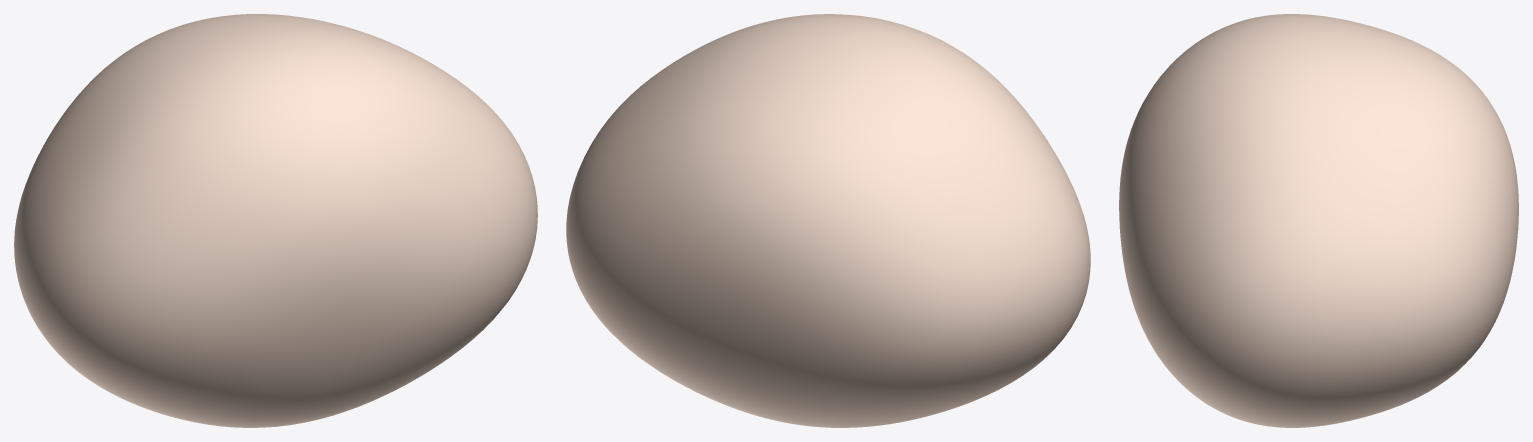
File: animal_cell.glb
3 renders of one model, left to right at view 1: azimuth 30°, elevation 25°; view 2: azimuth 150°, elevation 25°; view 3: azimuth 270°, elevation 25°, orthographic. The views are drawn at different scales.
Visible parts, largest first — view 1: membrane; view 2: membrane; view 3: membrane.
Boxes of the visible parts, left/top/right/bottom form: membrane: left=14, top=14, right=537, bottom=427; membrane: left=566, top=14, right=1090, bottom=427; membrane: left=1119, top=14, right=1518, bottom=427.
Size of the model in its own units: 0.2062 by 0.1539 by 0.1566.
